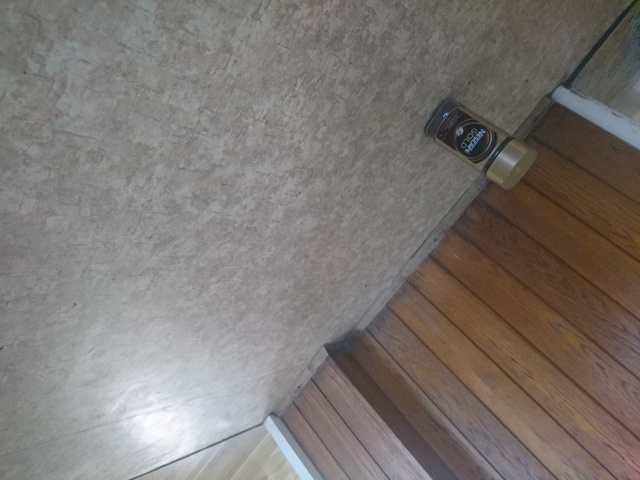Nescafe Gold 225g: (420, 96, 540, 192)
